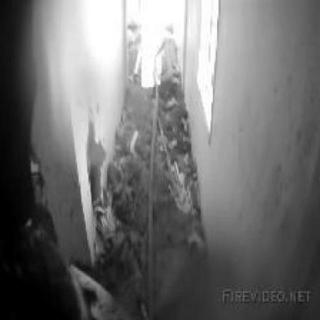other: (190, 6, 222, 137)
